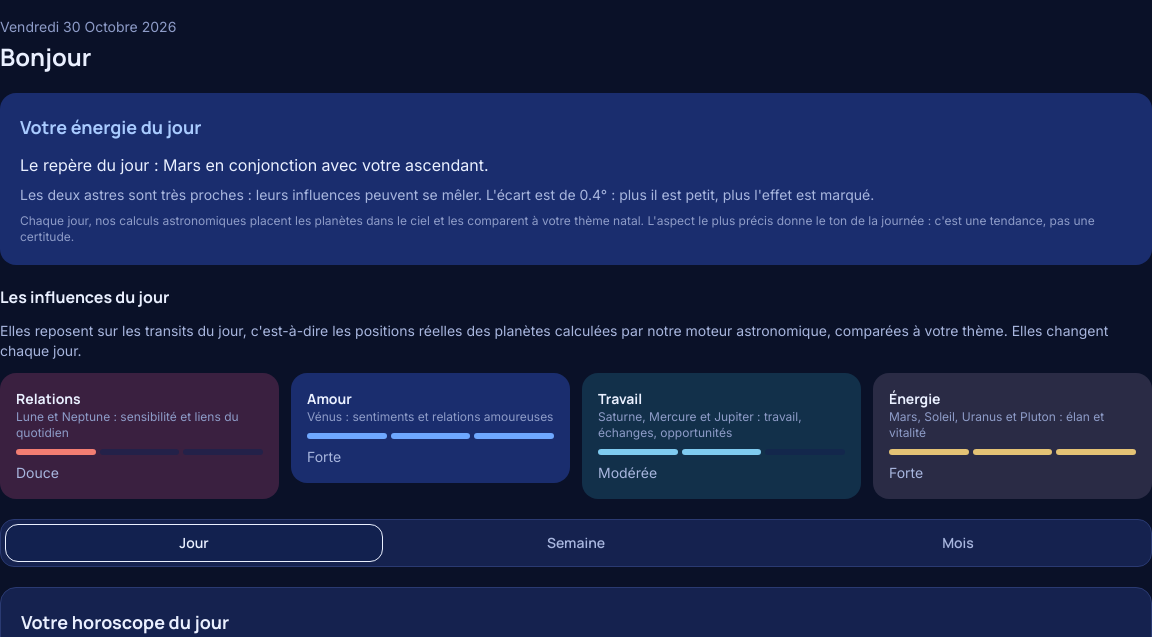
Test: TodayFlow › ne charge la lecture hebdomadaire qu'à la bascule sur « Semaine »
Click the radio button labelled "Semaine": [576, 543] box [387,524,765,562]
(page scrolled)
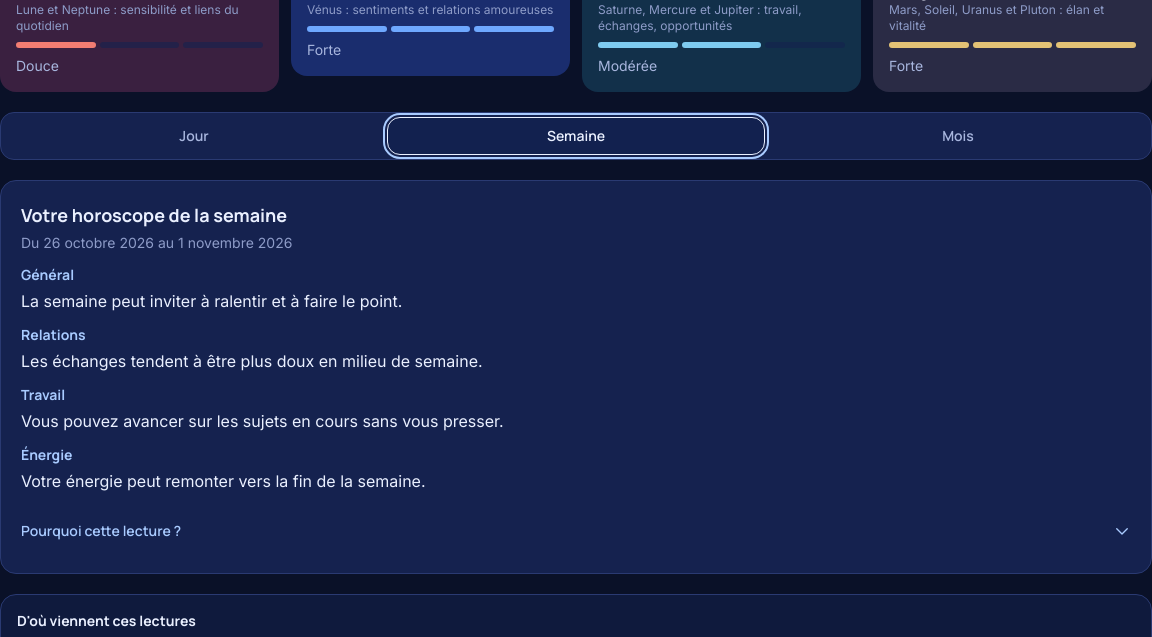
Expected: the heading "Votre horoscope de la semaine" is shown, [21,203,287,227]
Expected: the text "La semaine peut inviter à ralentir et à faire le point." is shown, [21,291,402,311]
